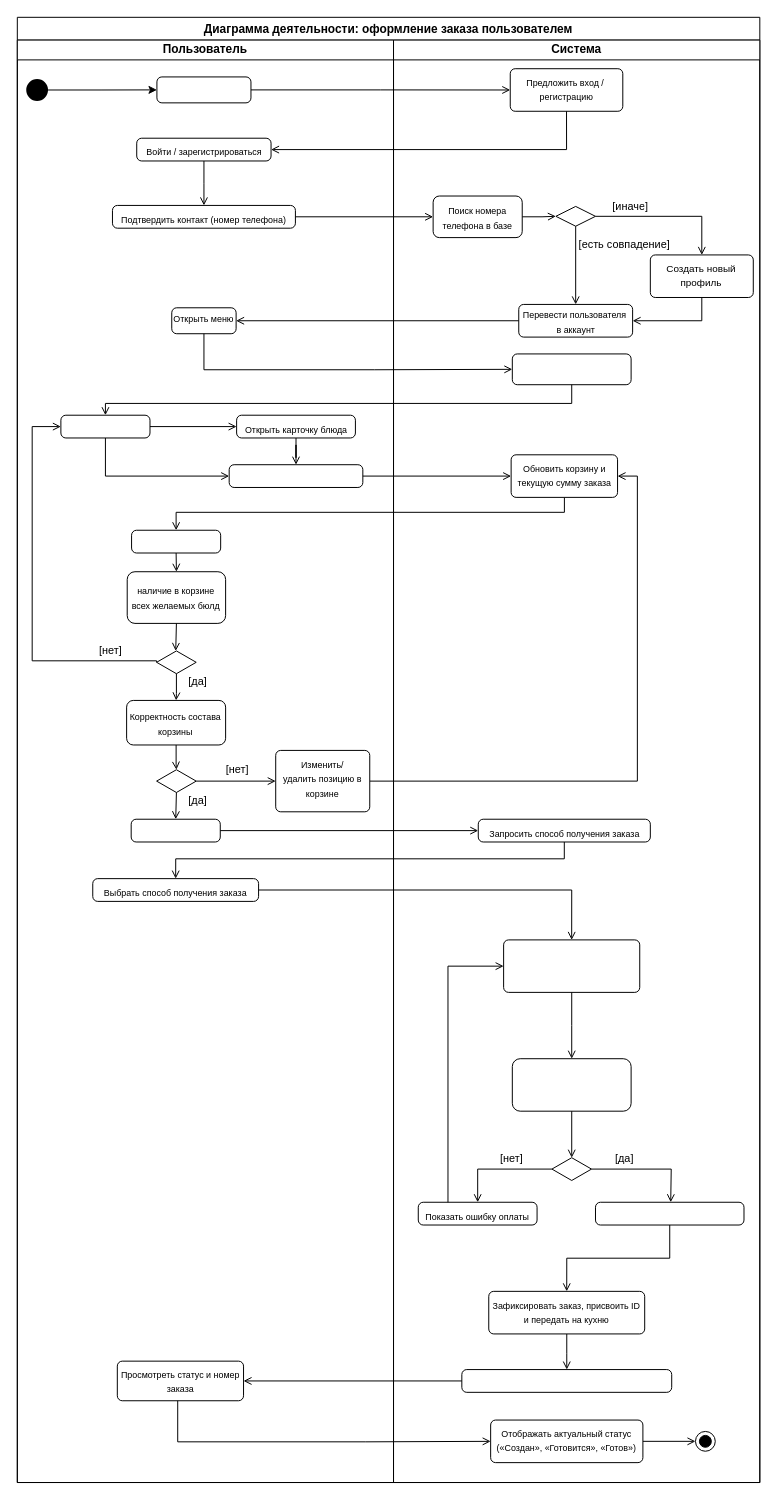
Some shapes in this 777 by 1500 pixel diagram are drawn without their labels. Each missing label, with the box of its shape:
Добавить блюдо в корзину: (228, 464, 363, 487)
Запросить оплату и передать сумму заказа в платежный сервис: (503, 939, 640, 992)
Открыть сайт: (156, 76, 251, 103)
Отобразить актуальное меню и категории: (511, 353, 631, 385)
Отобразить статус «принят» и номер заказа: (461, 1369, 672, 1392)
Оформить заказ: (130, 818, 220, 842)
Перейти в корзину: (131, 529, 221, 553)
Подтвердить успешную оплату: (594, 1201, 744, 1225)
Просмотреть меню: (60, 414, 150, 438)
Успешность проведённой оплаты: (511, 1058, 631, 1111)
